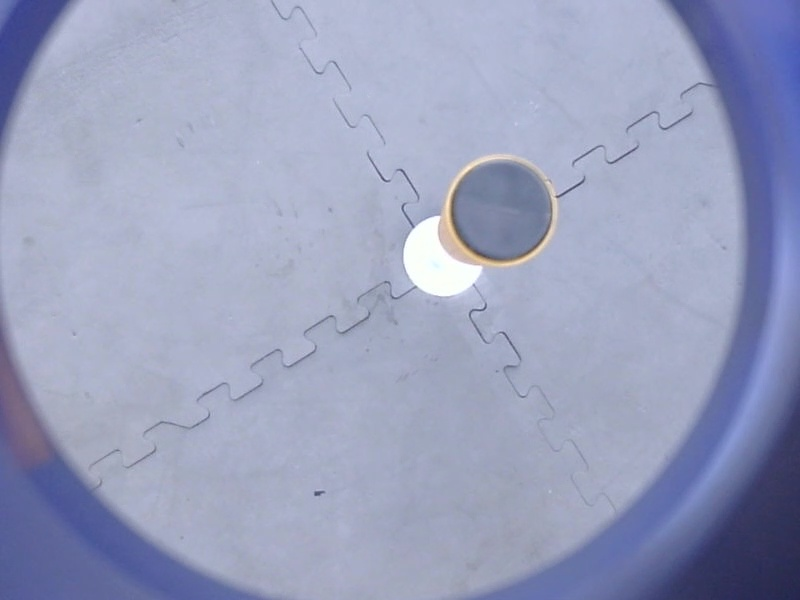tip: (440, 148, 564, 270)
